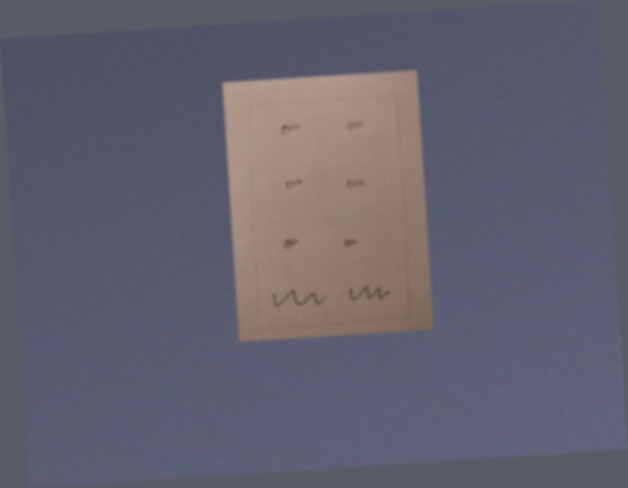switch: (275, 119, 306, 139), (278, 232, 304, 255), (341, 115, 369, 136), (342, 173, 368, 195), (281, 174, 307, 193), (338, 234, 363, 252)
text: (266, 284, 330, 314), (344, 279, 395, 307)
